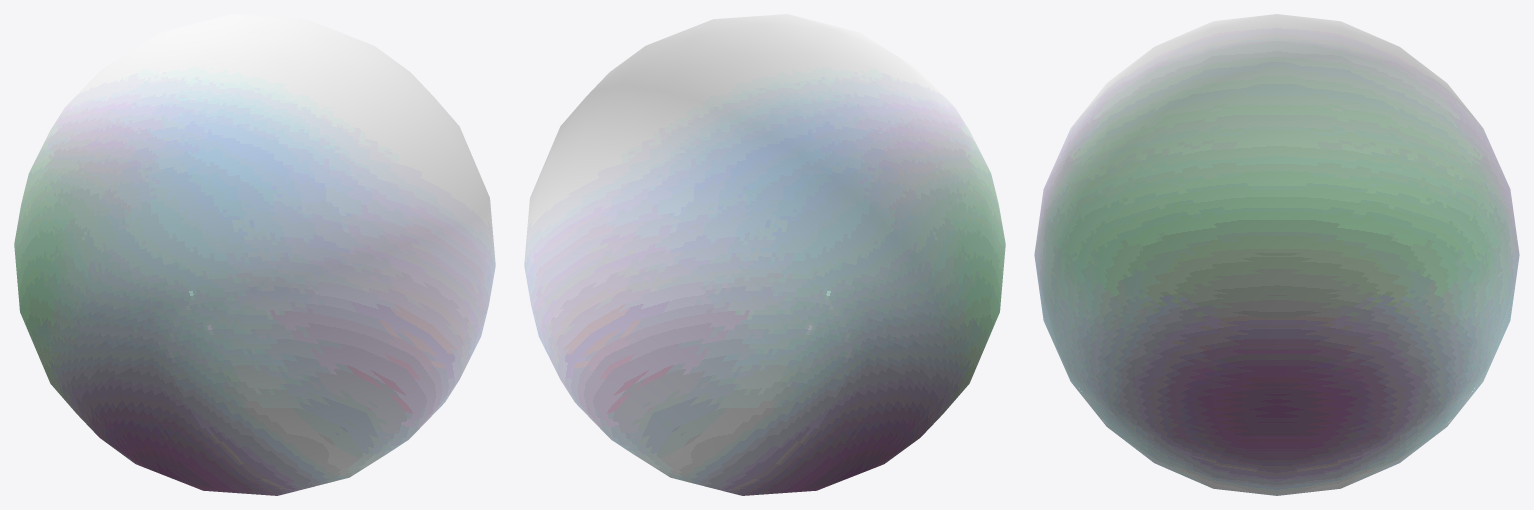
Rendered from ps2_save-icons_hokkahokasentou.glb.
3 renders of one model, left to right at view 1: azimuth 30°, elevation 25°; view 2: azimuth 150°, elevation 25°; view 3: azimuth 270°, elevation 25°, orthographic.
Visible parts, largest first — view 1: pachi.ico; view 2: pachi.ico; view 3: pachi.ico.
Boxes of the visible parts, x1,y1,x2,y2 form: pachi.ico: (14, 14, 495, 495); pachi.ico: (524, 14, 1005, 495); pachi.ico: (1034, 14, 1519, 495).
Size of the model in its own units: 2.21 by 2.21 by 2.21.
1 material, 1 textured.
